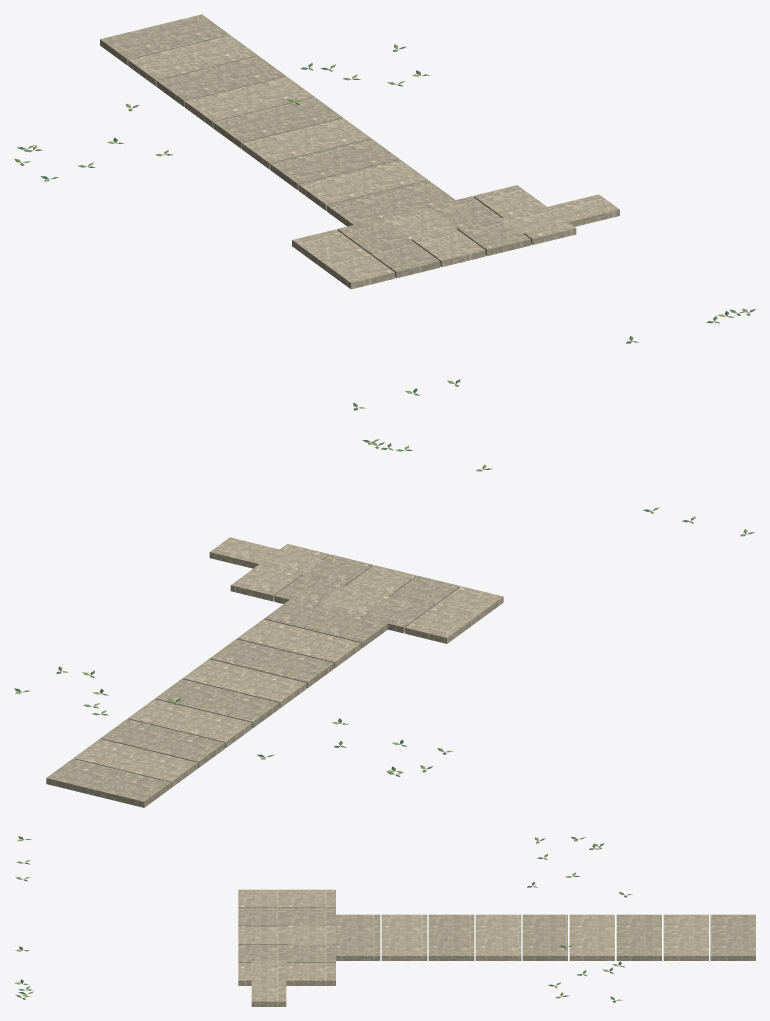
Rendered from shrine_path-exterior-refined-v1.glb.
3 views of the same model, one above another, from view 1: azimuth 30°, elevation 25°; view 2: azimuth 150°, elevation 25°; view 3: azimuth 270°, elevation 25° (orthographic). The views are drawn at different scales.
Visible parts, largest first — view 1: shrine_path_01_原有建筑轮廓与构件_EX_c2b79f_dark_rock_surface, shrine_path_01_原有建筑轮廓与构件_EX_b7ae97_dark_rock_surface; view 2: shrine_path_01_原有建筑轮廓与构件_EX_c2b79f_dark_rock_surface, shrine_path_01_原有建筑轮廓与构件_EX_b7ae97_dark_rock_surface; view 3: shrine_path_01_原有建筑轮廓与构件_EX_c2b79f_dark_rock_surface, shrine_path_01_原有建筑轮廓与构件_EX_b7ae97_dark_rock_surface.
Part boxes in pixels (x1=…): shrine_path_01_原有建筑轮廓与构件_EX_c2b79f_dark_rock_surface: x1=128, y1=35, x2=619, y2=289; shrine_path_01_原有建筑轮廓与构件_EX_b7ae97_dark_rock_surface: x1=100, y1=14, x2=530, y2=278; shrine_path_01_原有建筑轮廓与构件_EX_c2b79f_dark_rock_surface: x1=73, y1=537, x2=503, y2=787; shrine_path_01_原有建筑轮廓与构件_EX_b7ae97_dark_rock_surface: x1=46, y1=554, x2=459, y2=807; shrine_path_01_原有建筑轮廓与构件_EX_c2b79f_dark_rock_surface: x1=238, y1=889, x2=708, y2=1006; shrine_path_01_原有建筑轮廓与构件_EX_b7ae97_dark_rock_surface: x1=238, y1=908, x2=755, y2=962.
Size of the model in its own units: 10.93 by 0.2055 by 20.54.
Materials: 5 (2 with a texture image).
